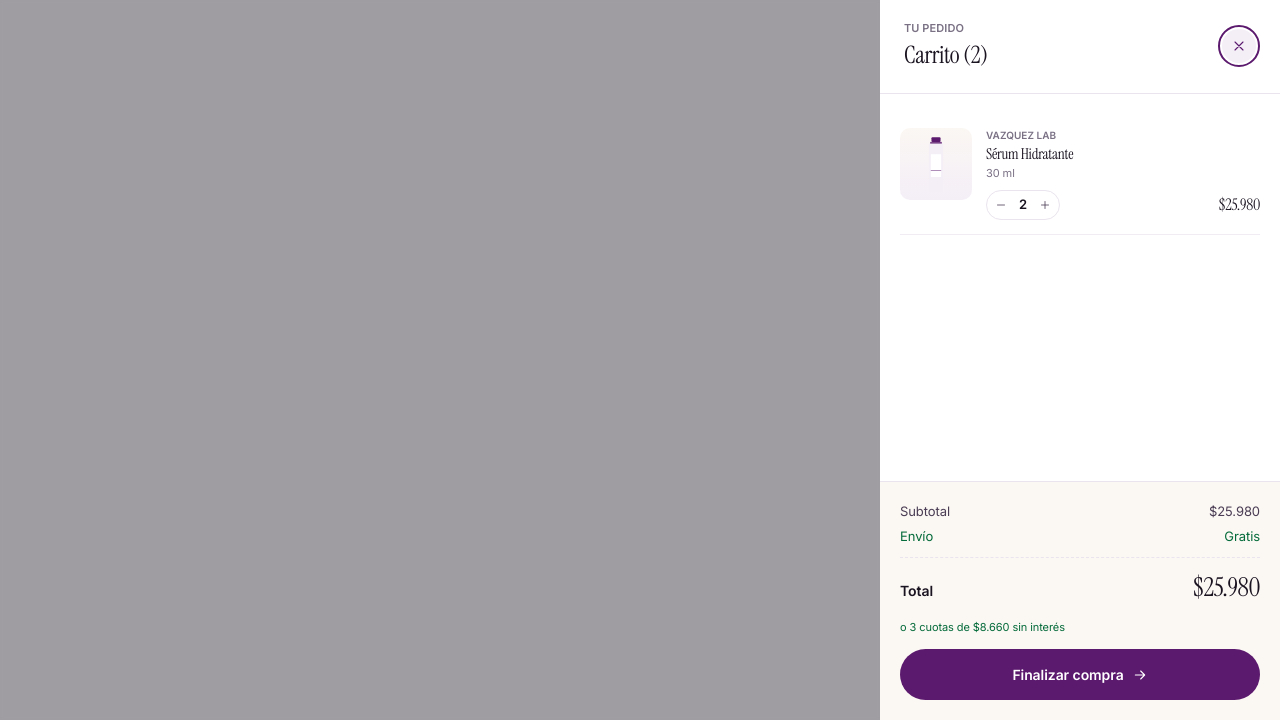
Test: CartDrawer › increments the item quantity when '+' is clicked
The image size is (1280, 720).
Expected: the dialog is shown, [880,0,1279,719]
Click the button named "Sumar": point(1045, 204) [1033,192,1057,216]
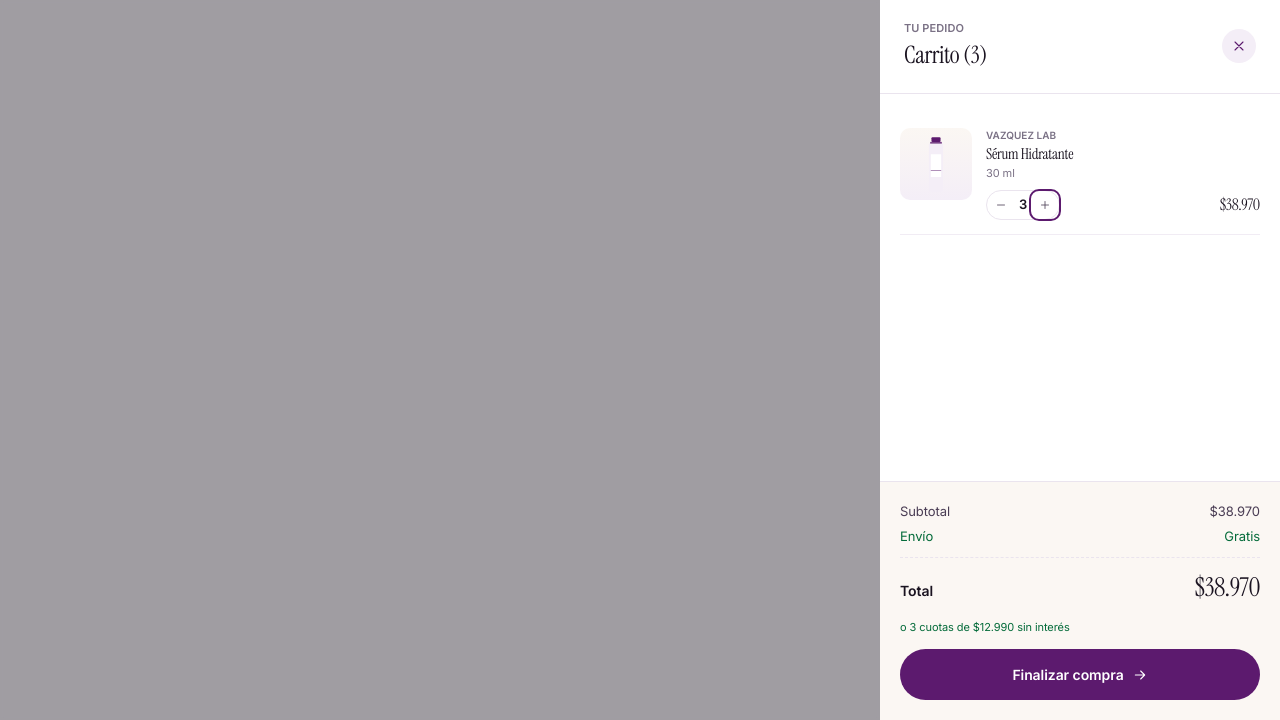
Result: the text "3" is shown at [1019,196,1027,212]
